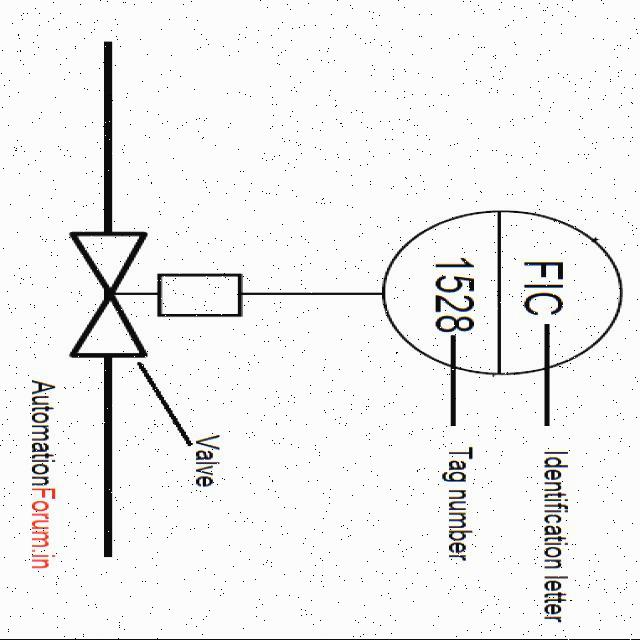Powered Gate Valve: (50, 228, 254, 362)
